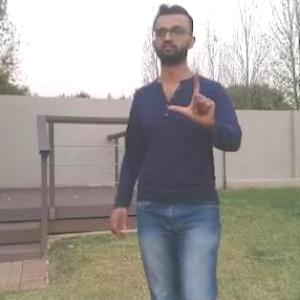land_hand: (166, 61, 218, 125)
